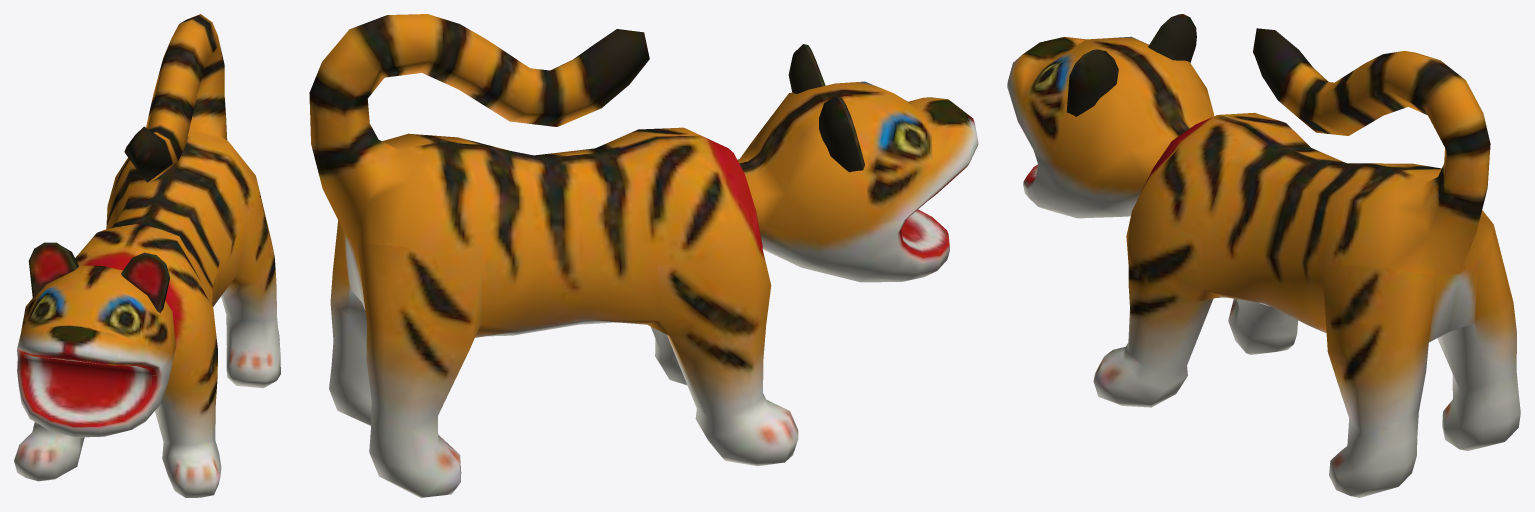
3 renders of one model, left to right at view 1: azimuth 30°, elevation 25°; view 2: azimuth 150°, elevation 25°; view 3: azimuth 270°, elevation 25°, orthographic. The views are drawn at different scales.
Size of the model in its own units: 6.01 by 5.31 by 6.01.
Materials: 1 (1 with a texture image).
